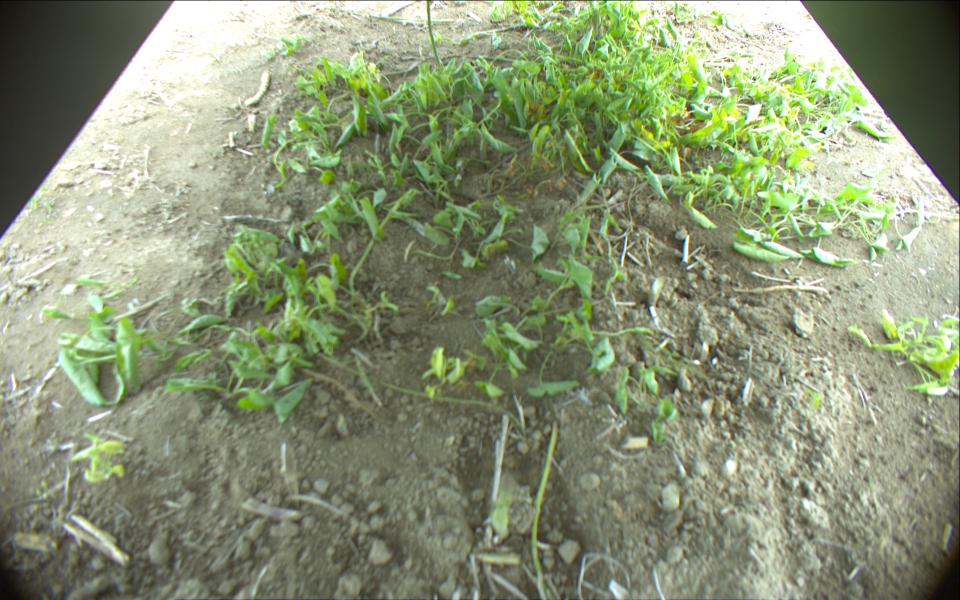aspa: (426, 1, 441, 69), (243, 71, 271, 105)
